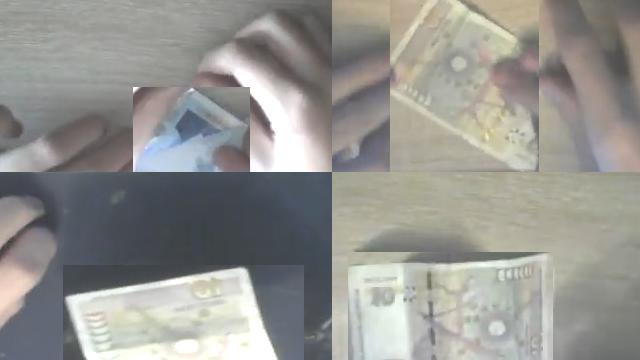10leva: (390, 0, 539, 172), (348, 252, 553, 360), (63, 265, 280, 360)
20leva: (135, 87, 250, 172)
